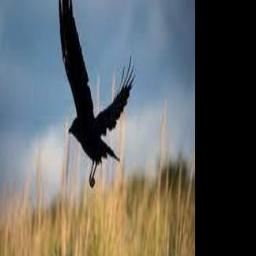Crow: (58, 0, 135, 190)
